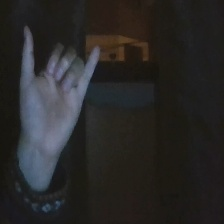Y: (10, 18, 107, 169)
